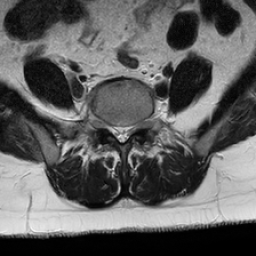CCS_normal: (117, 116, 125, 149)
LFS_normal: (133, 109, 142, 139)
LLS_normal: (125, 116, 133, 146)
RFS_stenosis: (100, 112, 109, 138)
RLS_normal: (109, 115, 117, 145)
